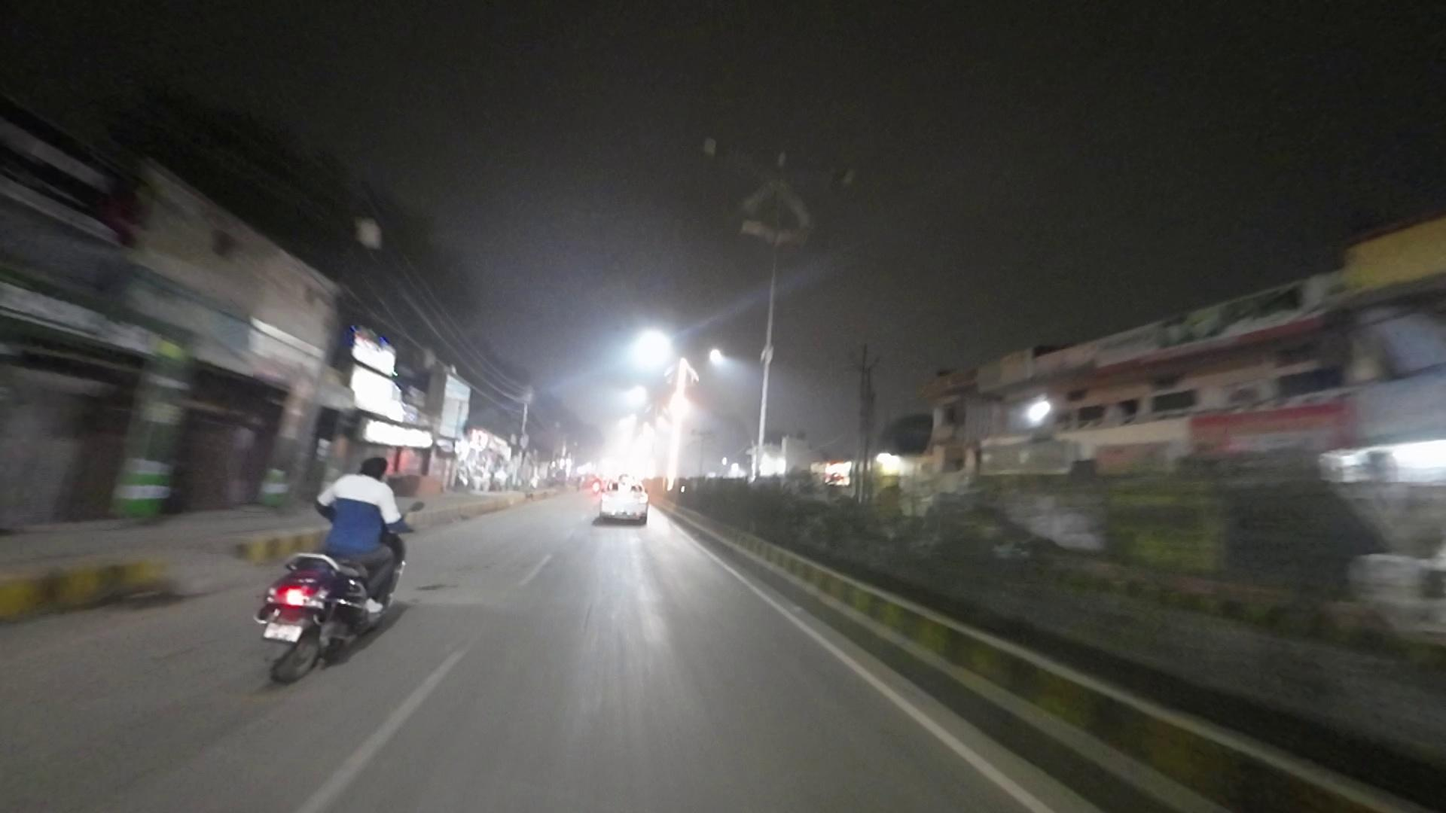streetlight: (698, 135, 768, 182), (785, 161, 861, 195)
